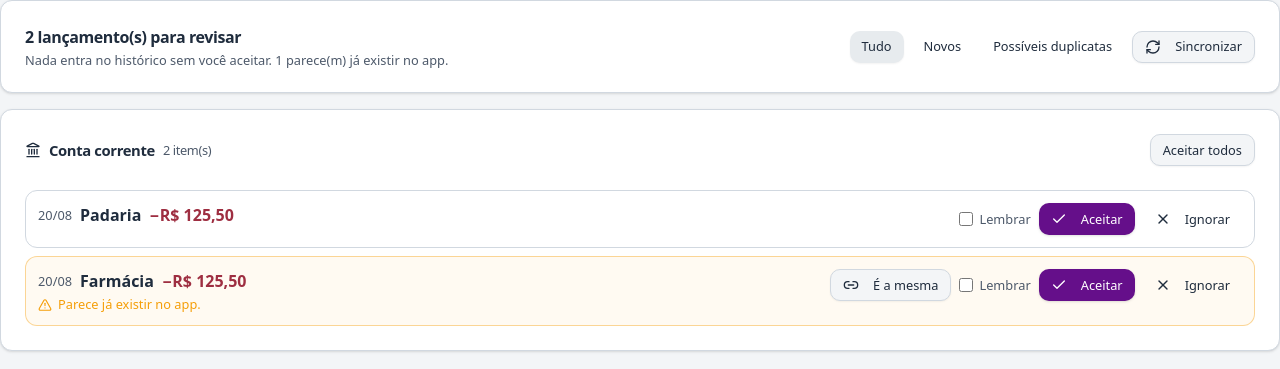
Test case: ImportView › filters down to the suspected duplicates
Click the button "Possíveis duplicatas".
click(1053, 47)  # box [981, 31, 1124, 63]
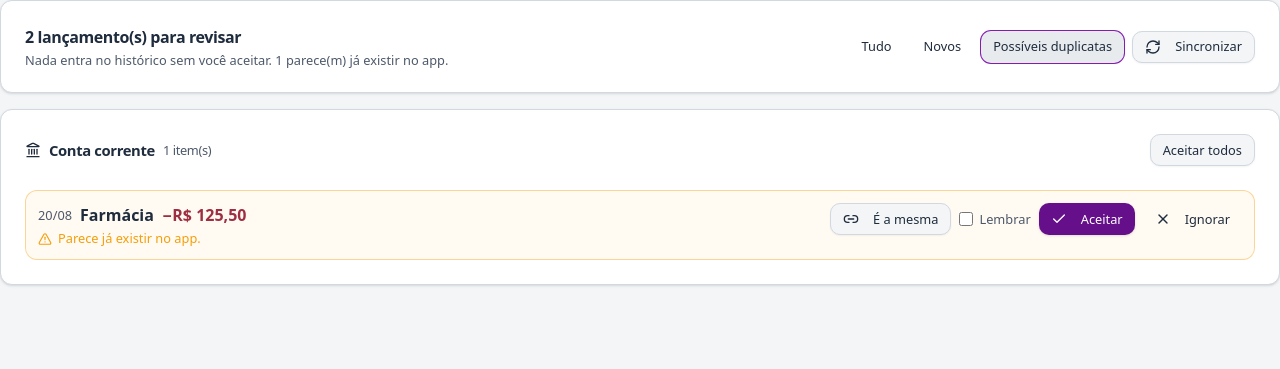
Expected: the text "Farmácia" is shown, [80, 203, 154, 227]
Expected: the text "Padaria" is gone
